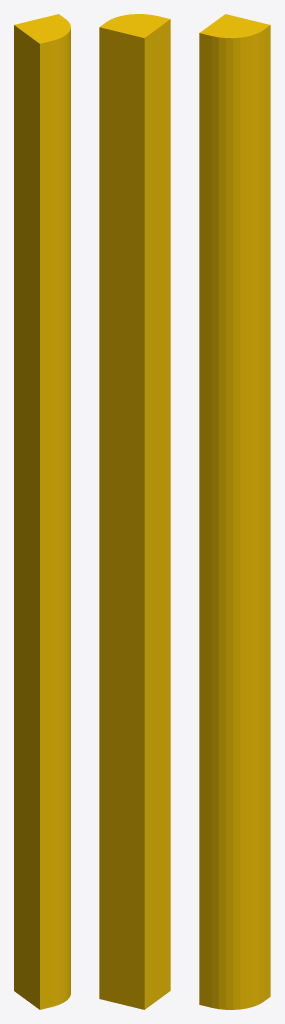
The model's file is sari_duba.obj.
3 renders of one model, left to right at view 1: azimuth 30°, elevation 25°; view 2: azimuth 150°, elevation 25°; view 3: azimuth 330°, elevation 25°, orthographic.
Visible parts, largest first — view 1: Cube.026; view 2: Cube.026; view 3: Cube.026.
Part boxes in pixels (x1,y1,x2,y2): Cube.026: [14, 14, 70, 1009]; Cube.026: [99, 14, 170, 1009]; Cube.026: [199, 14, 270, 1009].
Size of the model in its own units: 0.3053 by 6.29 by 0.3053.
